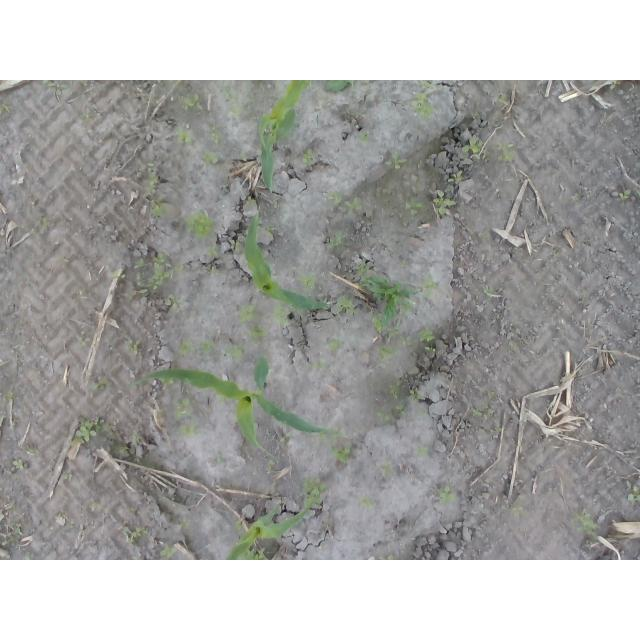Maize: (127, 355, 329, 461), (243, 212, 330, 317), (257, 80, 311, 194), (225, 496, 316, 561)
Weeds: (359, 273, 419, 339), (70, 417, 112, 447), (169, 80, 203, 110), (146, 251, 172, 289), (571, 508, 601, 539), (300, 476, 326, 507), (185, 211, 215, 237), (410, 92, 434, 121), (461, 139, 491, 162), (432, 190, 456, 215), (335, 294, 360, 316), (144, 194, 169, 216), (313, 427, 345, 442), (420, 274, 440, 298), (124, 525, 149, 543), (495, 140, 515, 162), (223, 342, 244, 362), (237, 305, 259, 324), (270, 306, 289, 328), (178, 419, 201, 437), (236, 546, 265, 560), (173, 398, 192, 419), (42, 80, 70, 94), (384, 153, 408, 169), (376, 459, 397, 477), (248, 326, 269, 343), (471, 405, 494, 420), (437, 485, 455, 504), (405, 197, 424, 215), (330, 447, 350, 464), (143, 172, 158, 194), (175, 126, 193, 144), (416, 326, 436, 342), (325, 81, 354, 92), (299, 274, 318, 290), (164, 293, 184, 308), (376, 345, 394, 361), (201, 151, 219, 167), (329, 231, 345, 249), (627, 481, 640, 503), (159, 544, 178, 559), (446, 169, 465, 184), (346, 197, 363, 213), (177, 341, 196, 355), (128, 288, 148, 301), (200, 340, 216, 356), (326, 190, 343, 205), (112, 445, 134, 456), (356, 494, 372, 509), (354, 261, 370, 276), (91, 378, 111, 390), (208, 124, 220, 144), (125, 340, 140, 356), (388, 381, 400, 400), (408, 389, 424, 403), (228, 104, 245, 117), (414, 444, 431, 457), (37, 215, 52, 229), (302, 148, 315, 164), (224, 86, 236, 103), (312, 360, 327, 373), (399, 336, 414, 349), (375, 411, 391, 423), (326, 338, 342, 350), (394, 403, 407, 416), (496, 93, 509, 106), (229, 238, 241, 252), (418, 80, 436, 89), (205, 264, 218, 276), (10, 522, 22, 535), (620, 188, 633, 200), (81, 109, 93, 122), (279, 432, 293, 443), (177, 518, 191, 529), (483, 285, 494, 298), (160, 377, 174, 387), (134, 272, 143, 287), (89, 502, 104, 511), (359, 130, 370, 142), (13, 458, 24, 470), (206, 245, 219, 255), (0, 102, 10, 115), (423, 345, 437, 354), (134, 258, 145, 269), (216, 394, 228, 404), (78, 337, 90, 347), (138, 164, 155, 171), (245, 196, 258, 205), (174, 263, 185, 273), (266, 225, 277, 235), (610, 80, 622, 89), (508, 339, 518, 349), (5, 391, 14, 402), (2, 538, 14, 546), (215, 452, 223, 464), (512, 506, 524, 514), (378, 556, 396, 561), (516, 284, 526, 293), (345, 108, 355, 117), (240, 151, 248, 162), (63, 473, 74, 481), (268, 459, 275, 471), (112, 269, 120, 279), (490, 427, 503, 433), (235, 521, 242, 532), (471, 112, 480, 120), (400, 260, 409, 268), (131, 435, 141, 442), (551, 248, 558, 256), (27, 444, 34, 452), (82, 80, 90, 86), (269, 485, 275, 492), (574, 195, 579, 202)
